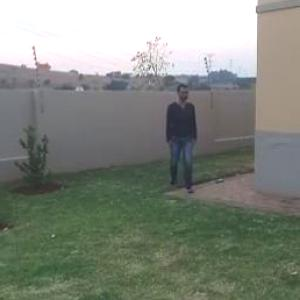follow: (160, 79, 200, 200)
